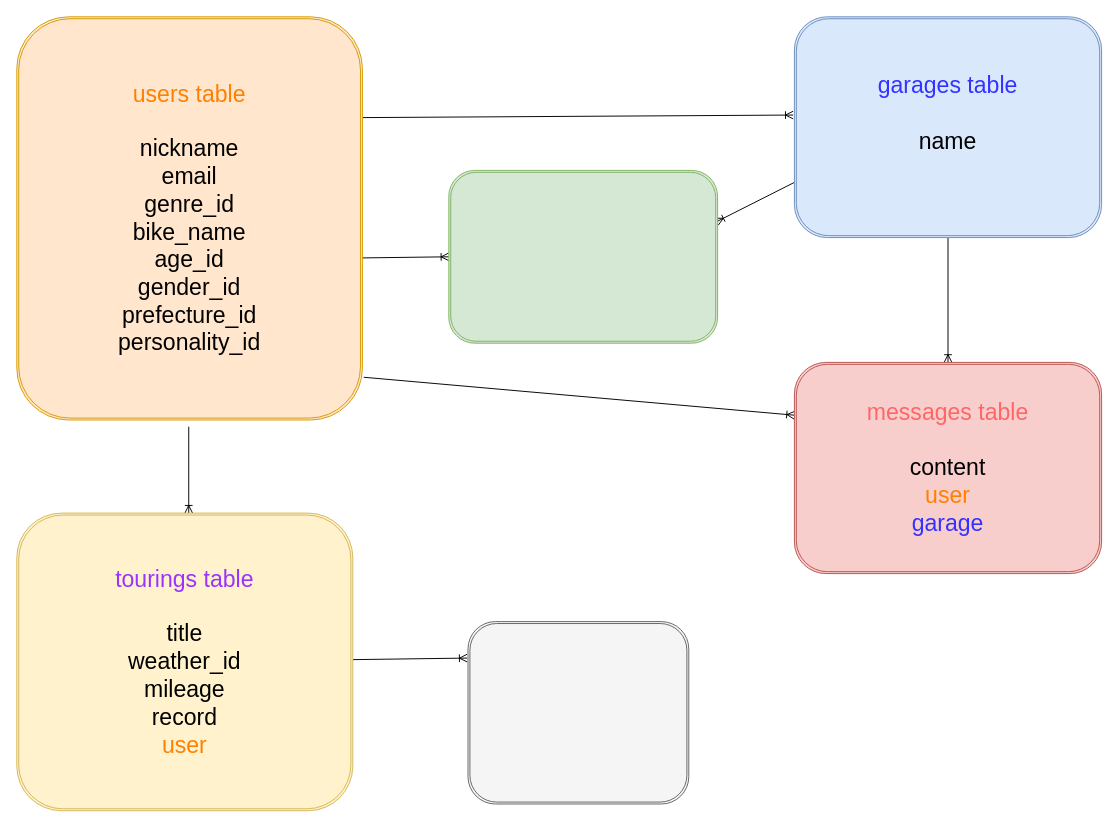
The diagram is 1118 pixels wide and 828 high, and some of its shapes have lost their labels. The centre of each missing label's shape, as x and y in pixels:
comments table text user: pixel 578 712
garage_users table user garage: pixel 583 256
